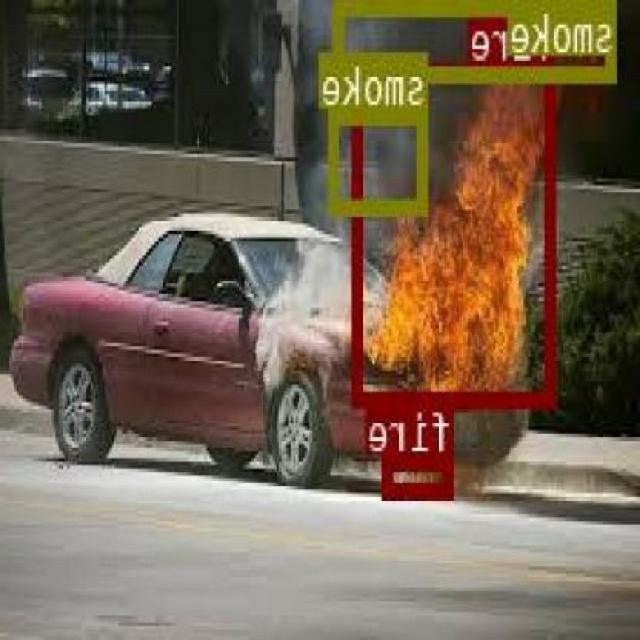Fire: (356, 60, 556, 402), (384, 452, 454, 494)
Smoke: (336, 0, 618, 80), (332, 108, 430, 210)
